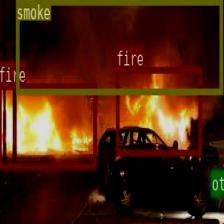fire: (0, 83, 96, 168), (115, 66, 201, 154)
smoke: (15, 0, 221, 94)
